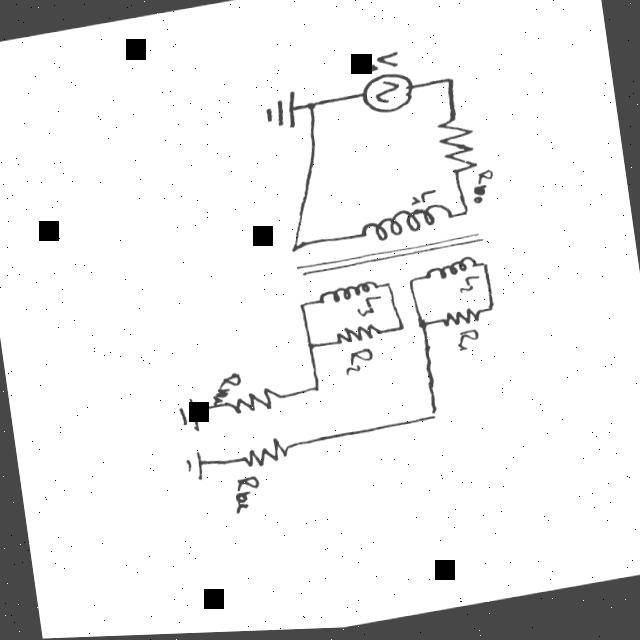ground: (260, 92, 300, 136), (175, 396, 202, 437), (181, 450, 208, 485)
junction: (308, 383, 325, 397), (483, 307, 500, 320), (301, 102, 317, 115), (302, 340, 318, 353), (392, 325, 408, 338), (416, 321, 432, 334), (425, 412, 441, 425), (441, 79, 456, 91), (478, 263, 491, 274), (288, 246, 301, 257), (459, 210, 472, 221), (404, 279, 417, 289), (296, 302, 309, 312), (381, 283, 393, 293)
resistor: (431, 119, 480, 181), (225, 387, 288, 421), (238, 436, 295, 473), (327, 324, 385, 350), (436, 308, 486, 334)
source: (358, 71, 416, 121)
text: (228, 475, 264, 518), (208, 372, 244, 407), (467, 172, 499, 211), (339, 348, 377, 380), (360, 52, 402, 78), (353, 296, 386, 322), (406, 190, 439, 212), (453, 332, 482, 357), (454, 277, 484, 300)
transformer: (284, 202, 489, 313)
